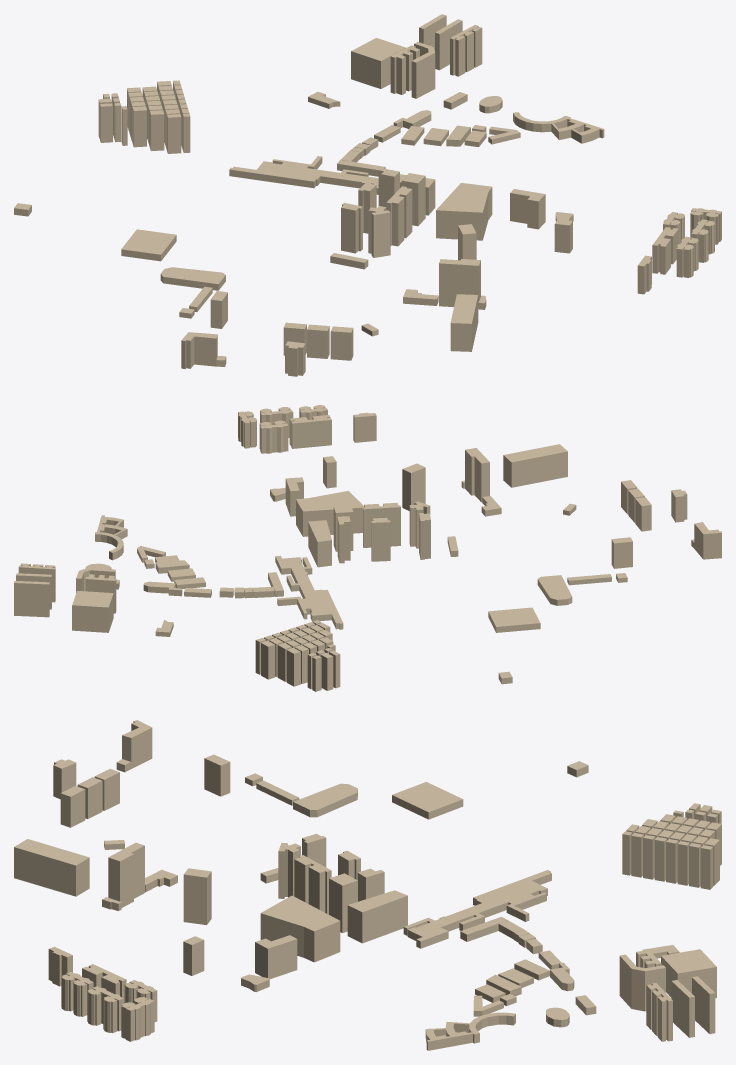
Rendered from -15_5-estimated-coarse.glb.
3 views of the same model, one above another, from view 1: azimuth 30°, elevation 25°; view 2: azimuth 150°, elevation 25°; view 3: azimuth 270°, elevation 25° (orthographic). The views are drawn at different scales.
Bounding box in the file's own units: 1055 × 78 × 1053.
